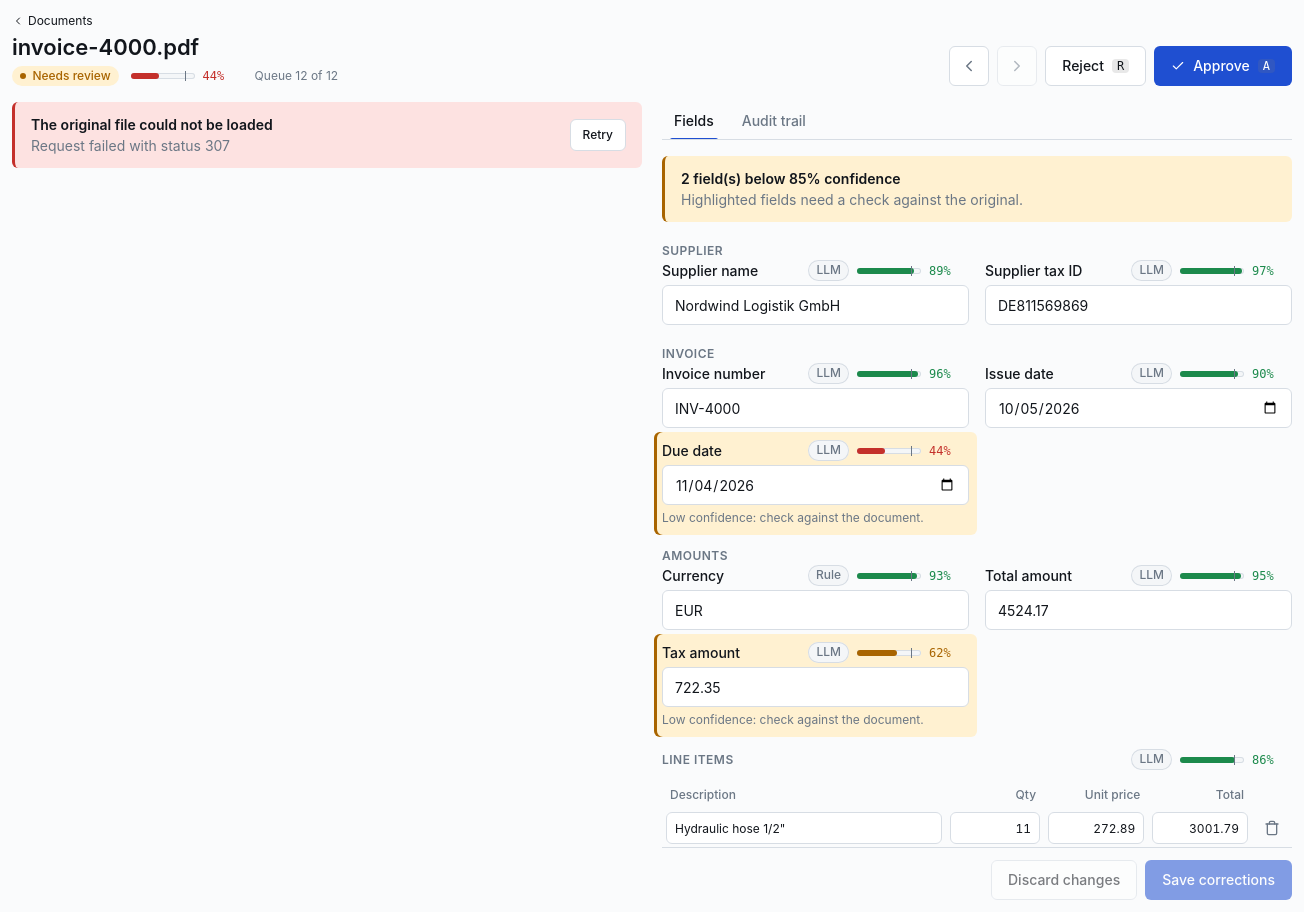
it: Review workbench › blocks invalid input with field-level errors
Replace the text in the field labelled "Total amount" with "1.530,40": (1138, 610) [985, 590, 1292, 630]
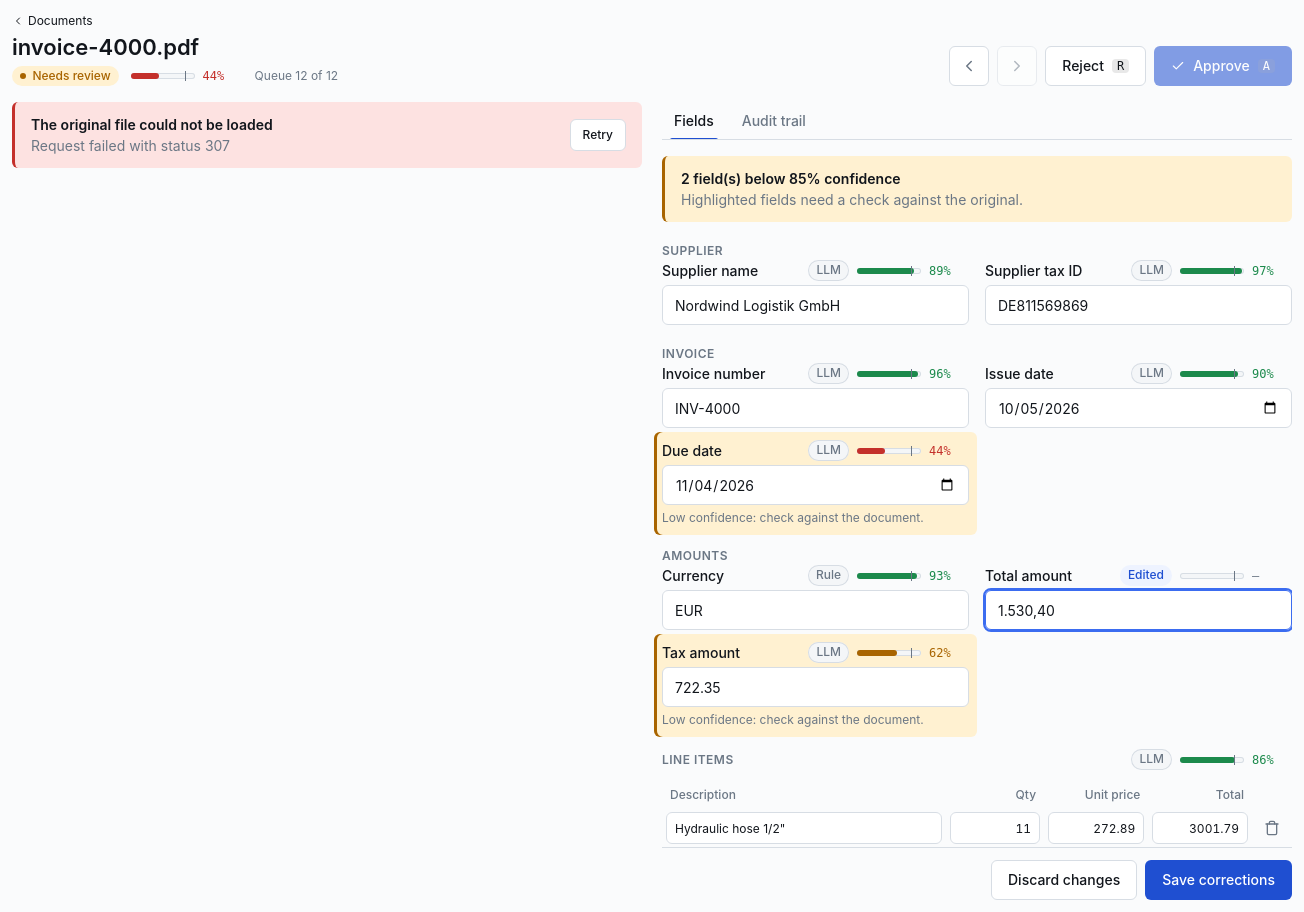
Click the button "Save corrections": (1219, 880) [1145, 860, 1292, 900]
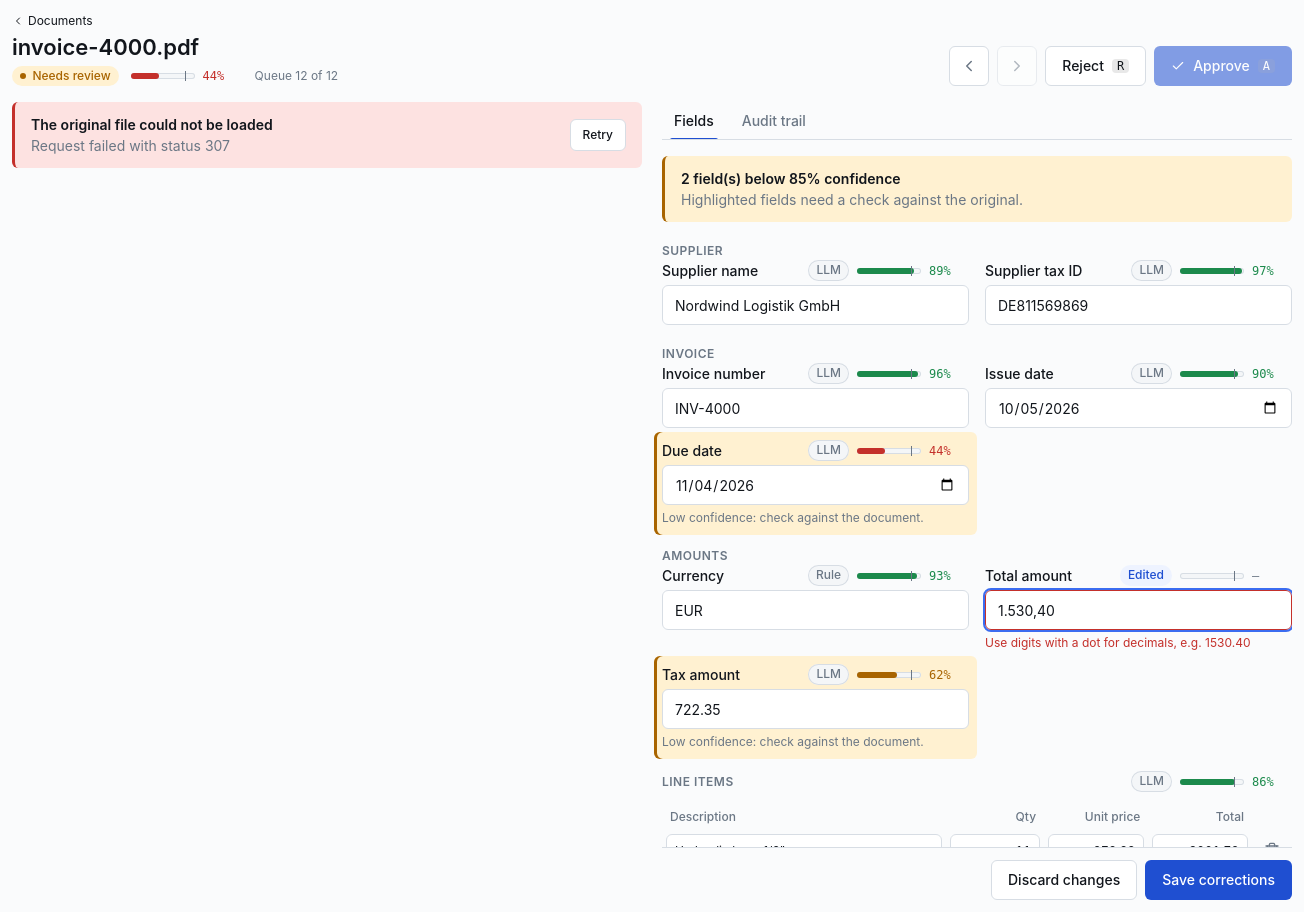
Result: the text "Use digits with a dot for decimals, e.g. 1530.40" is shown at [985, 634, 1292, 652]
